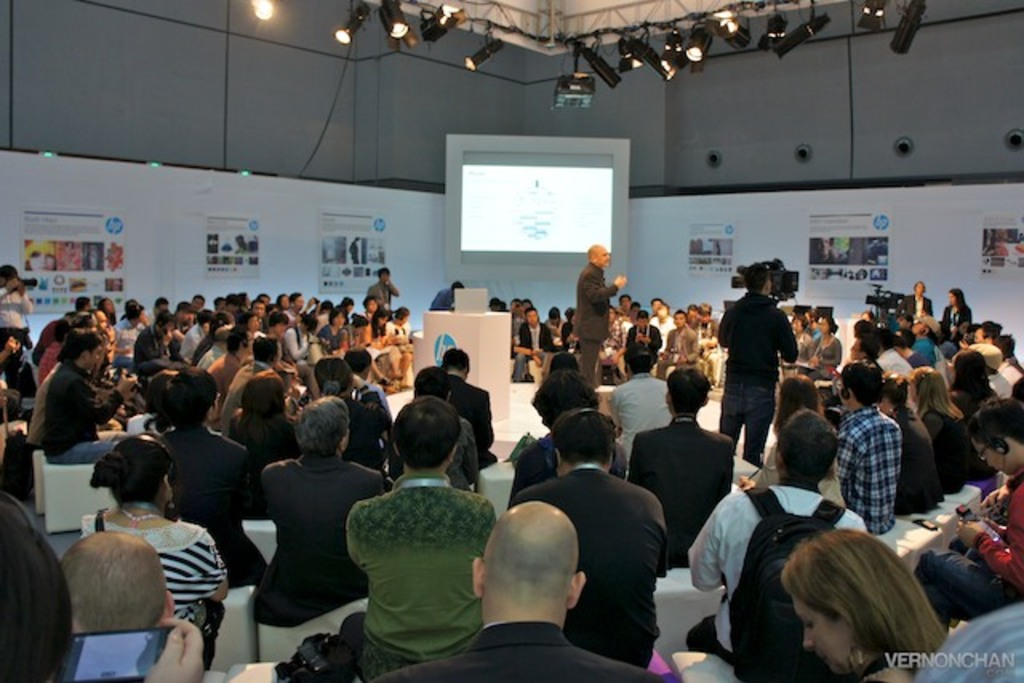Human_hand: (142, 614, 206, 681), (982, 486, 1013, 512), (957, 520, 986, 545), (115, 374, 136, 400), (158, 328, 176, 352), (3, 382, 24, 400), (6, 274, 21, 298), (640, 330, 658, 349), (806, 352, 822, 373), (170, 326, 187, 344), (5, 336, 21, 355), (674, 352, 691, 369), (957, 333, 970, 355), (610, 352, 624, 371), (741, 475, 757, 491), (613, 274, 627, 290), (533, 350, 546, 365), (122, 342, 134, 358), (632, 330, 642, 349)
